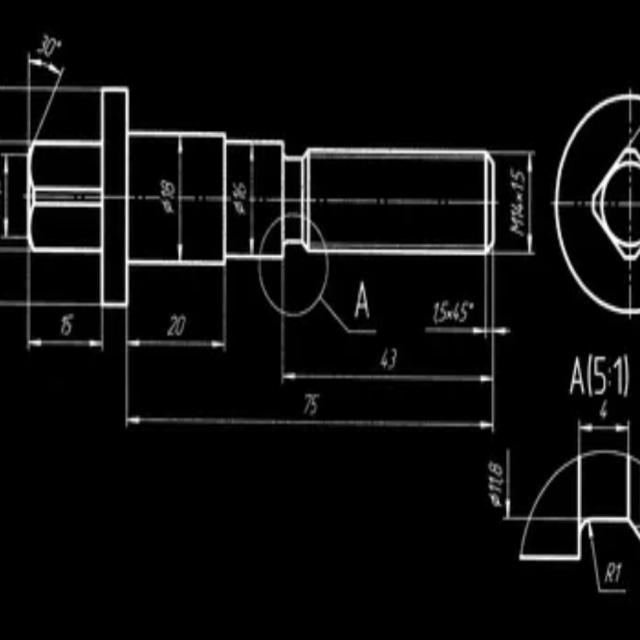marking_line: (123, 310, 512, 431), (279, 263, 494, 389), (130, 268, 227, 352), (500, 444, 579, 524), (424, 257, 489, 340), (123, 309, 229, 355), (496, 147, 536, 257), (487, 256, 510, 430), (23, 308, 106, 354), (24, 51, 64, 138), (587, 524, 628, 597), (1, 152, 27, 241), (577, 419, 632, 451), (175, 139, 186, 260), (247, 146, 256, 253)
numeric: (593, 353, 607, 397), (614, 355, 622, 396), (165, 312, 177, 339), (175, 314, 186, 338), (509, 166, 526, 181), (431, 301, 440, 326), (388, 347, 397, 371), (37, 34, 48, 53), (303, 393, 312, 416), (439, 301, 448, 323), (234, 177, 247, 192), (381, 347, 389, 371), (311, 392, 319, 416), (67, 310, 74, 337), (460, 300, 468, 323), (161, 180, 175, 193), (489, 462, 503, 475), (511, 181, 528, 191), (454, 299, 461, 323), (47, 37, 56, 55), (62, 311, 68, 336), (488, 477, 504, 485), (489, 484, 503, 493), (233, 192, 245, 200), (609, 364, 613, 378), (608, 381, 613, 388)
special_symbol: (488, 492, 503, 509), (162, 196, 175, 215), (233, 201, 247, 218), (56, 39, 62, 48)
